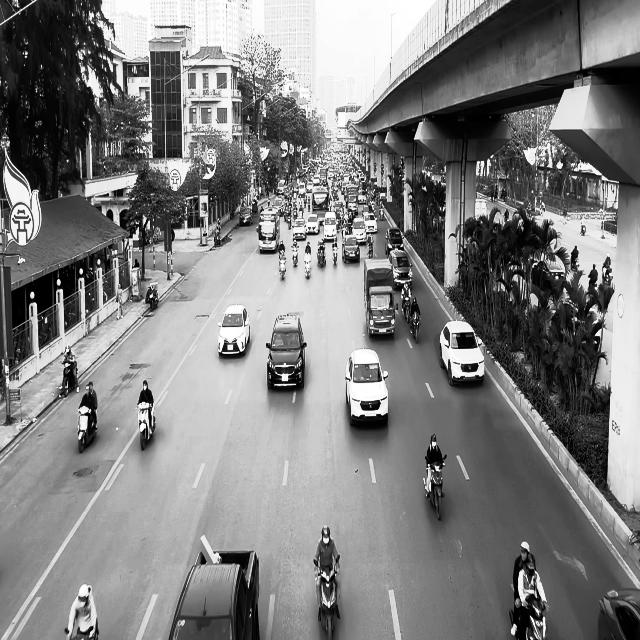car: (344, 347, 388, 427), (266, 312, 306, 390), (439, 320, 485, 386), (597, 588, 640, 640), (217, 304, 250, 356), (366, 284, 396, 336), (530, 259, 566, 297), (388, 248, 413, 289), (238, 206, 252, 226)
motorbike: (314, 554, 341, 638), (509, 599, 549, 640), (424, 454, 446, 520), (136, 400, 156, 450), (77, 404, 97, 454), (59, 361, 79, 398), (409, 312, 421, 343), (146, 283, 158, 311), (602, 264, 613, 286), (278, 251, 286, 280), (316, 244, 326, 267), (304, 254, 311, 279), (292, 242, 298, 267), (367, 238, 373, 258)
